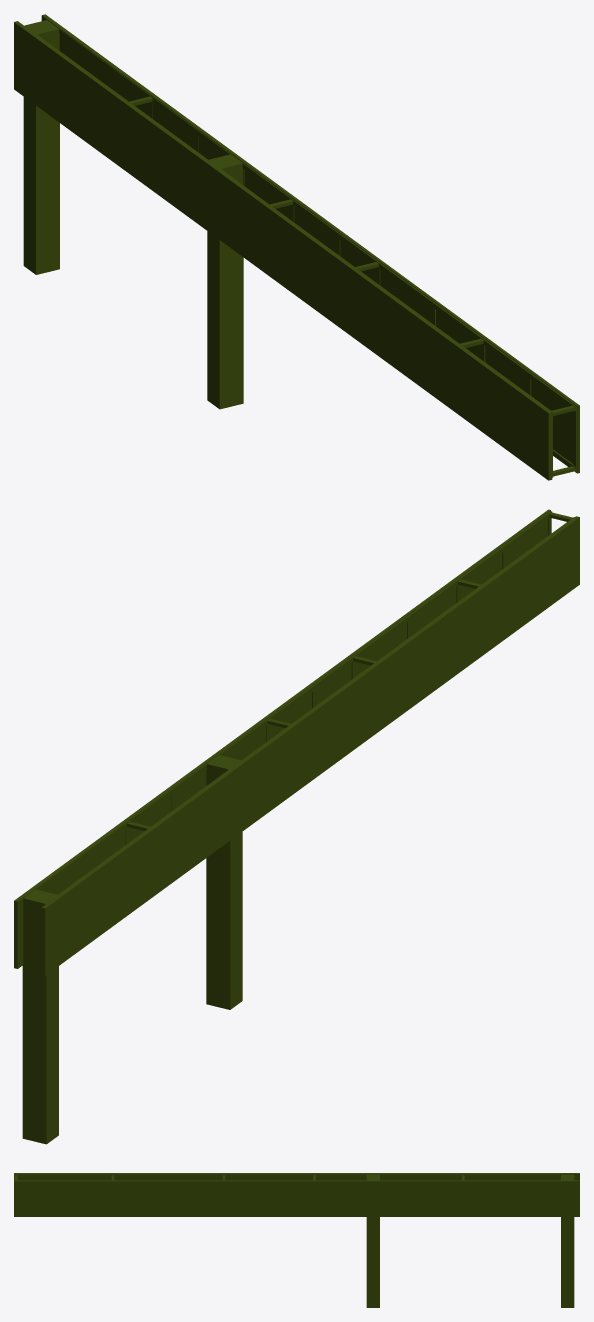
The model's file is T1_Billboard02e_M.fbx.
3 views of the same model, one above another, from view 1: azimuth 30°, elevation 25°; view 2: azimuth 150°, elevation 25°; view 3: azimuth 270°, elevation 25° (orthographic). The views are drawn at different scales.
Visible parts, largest first — view 1: T1_Billboard02e; view 2: T1_Billboard02e; view 3: T1_Billboard02e.
Boxes of the visible parts, box(x1,y1,x2,y2) form: T1_Billboard02e: box(14, 14, 579, 480); T1_Billboard02e: box(14, 509, 579, 1144); T1_Billboard02e: box(14, 1173, 579, 1307).
Size of the model in its own units: 0.4124 by 3.02 by 12.13.
